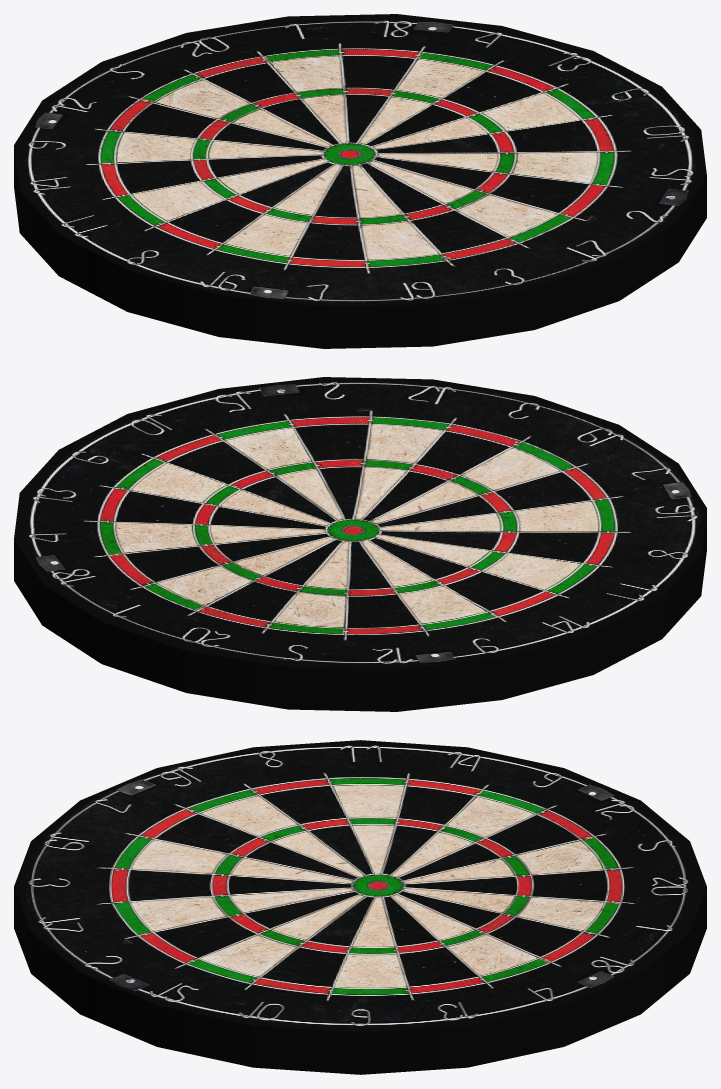
File: DartBoard.fbx
The picture shows the model from 3 angles, top to bottom: view 1: azimuth 30°, elevation 25°; view 2: azimuth 150°, elevation 25°; view 3: azimuth 270°, elevation 25°; orthographic projection.
Parts seen in each view (by area): view 1: pCylinder1; view 2: pCylinder1; view 3: pCylinder1.
Part boxes in pixels (x1,y1,x2,y2): pCylinder1: [14, 14, 706, 348]; pCylinder1: [14, 377, 706, 711]; pCylinder1: [14, 740, 706, 1074].
Bounding box in the file's own units: 30 × 2 × 30.
Materials: 1 (1 with a texture image).
